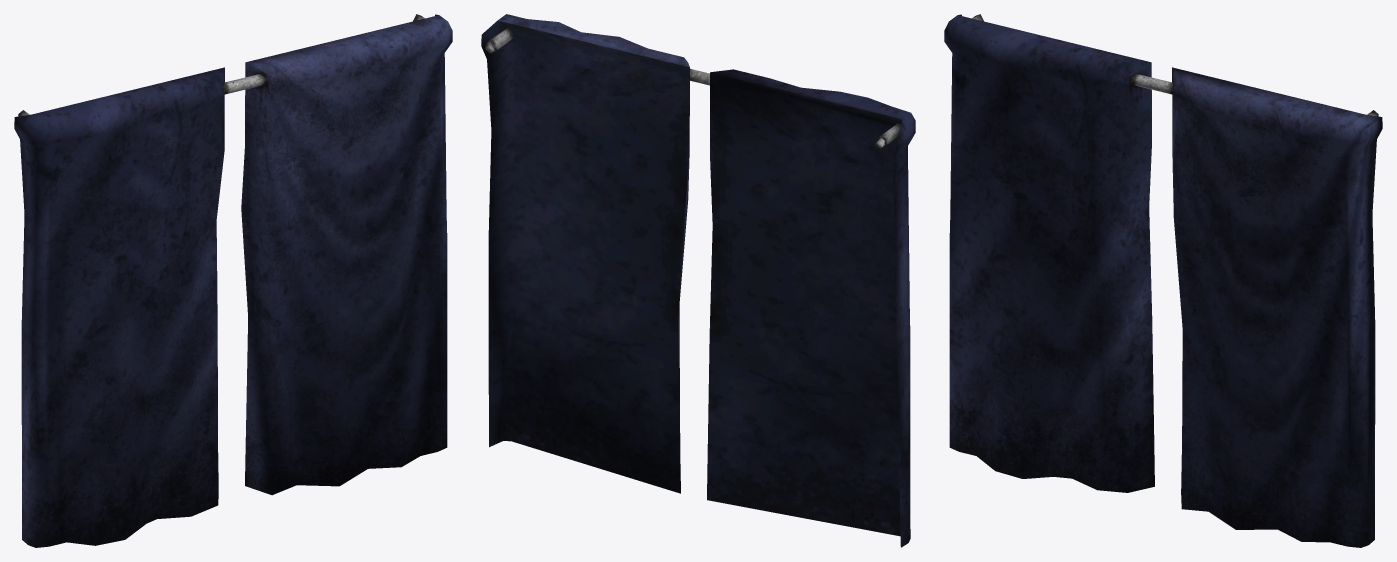
Rendered from curtain03_closed.dae.
3 renders of one model, left to right at view 1: azimuth 30°, elevation 25°; view 2: azimuth 150°, elevation 25°; view 3: azimuth 330°, elevation 25°, orthographic.
Visible parts, largest first — view 1: curtain01_closed; view 2: curtain01_closed; view 3: curtain01_closed.
Boxes of the visible parts, <box> form: curtain01_closed: <box>14,14,452,547</box>; curtain01_closed: <box>481,14,915,547</box>; curtain01_closed: <box>944,14,1382,547</box>.
Bounding box in the file's own units: 3.74 × 3.68 × 0.508.
